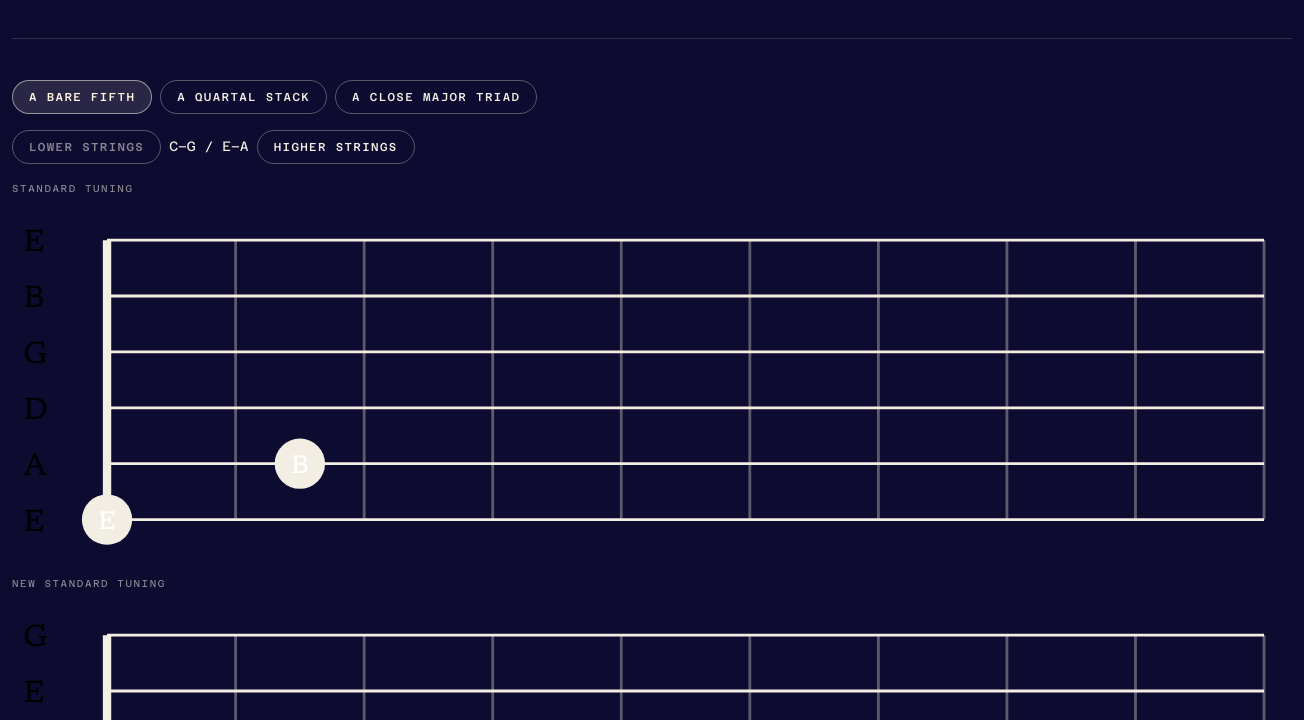
Test: Fretboards › the close triad names the stretch, and shape changes reset the set
Click the button "Higher strings": coordinates (336, 147) [257,130,415,164]
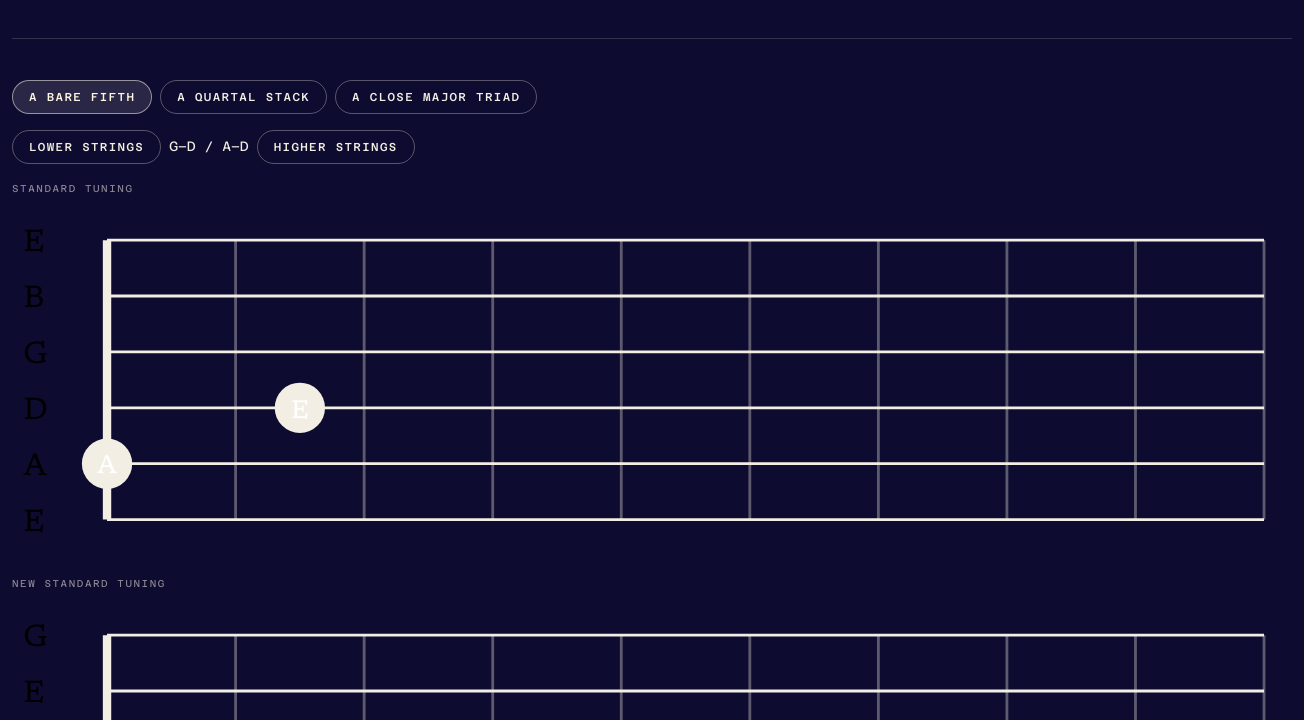
Click the button "A close major triad": coordinates (436, 97) [335,80,537,114]
(page scrolled)
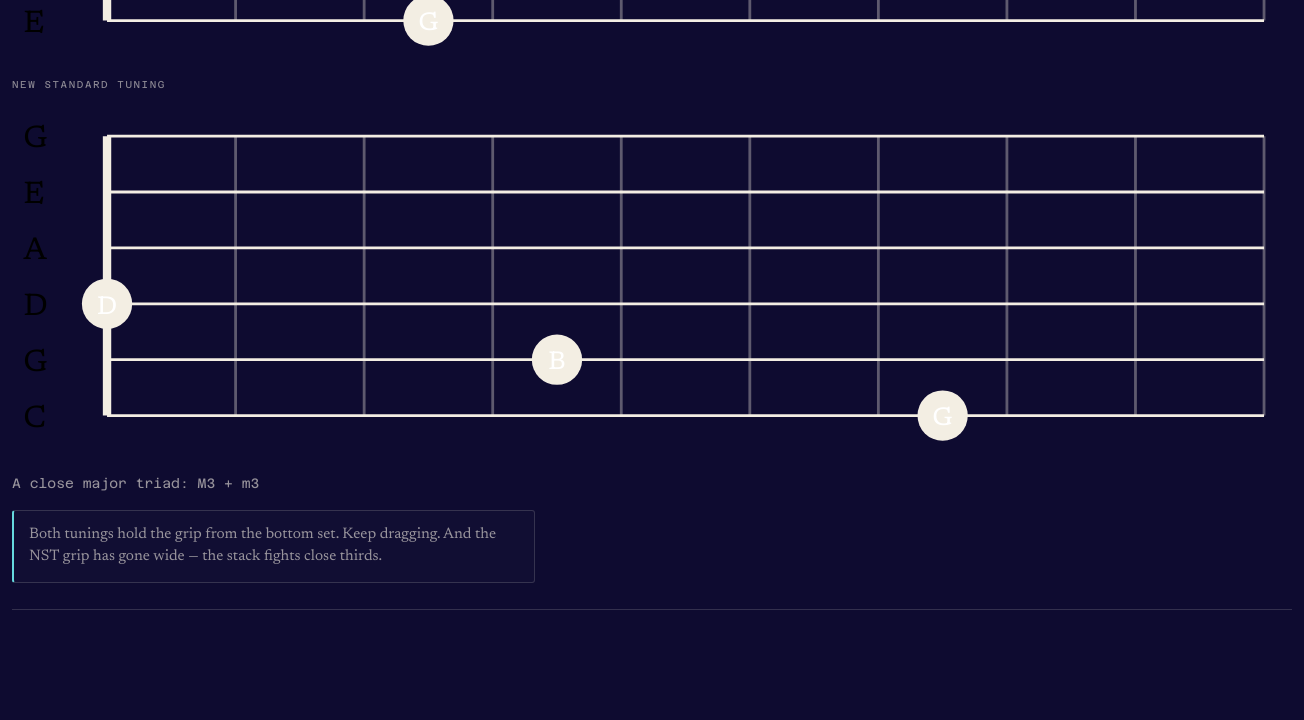
Check: the text "A close major triad: M3 + m3" is shown, box [12,475,259,491]
Check: the text "gone wide — the stack fights close thirds" is shown, box [29,527,496,564]
